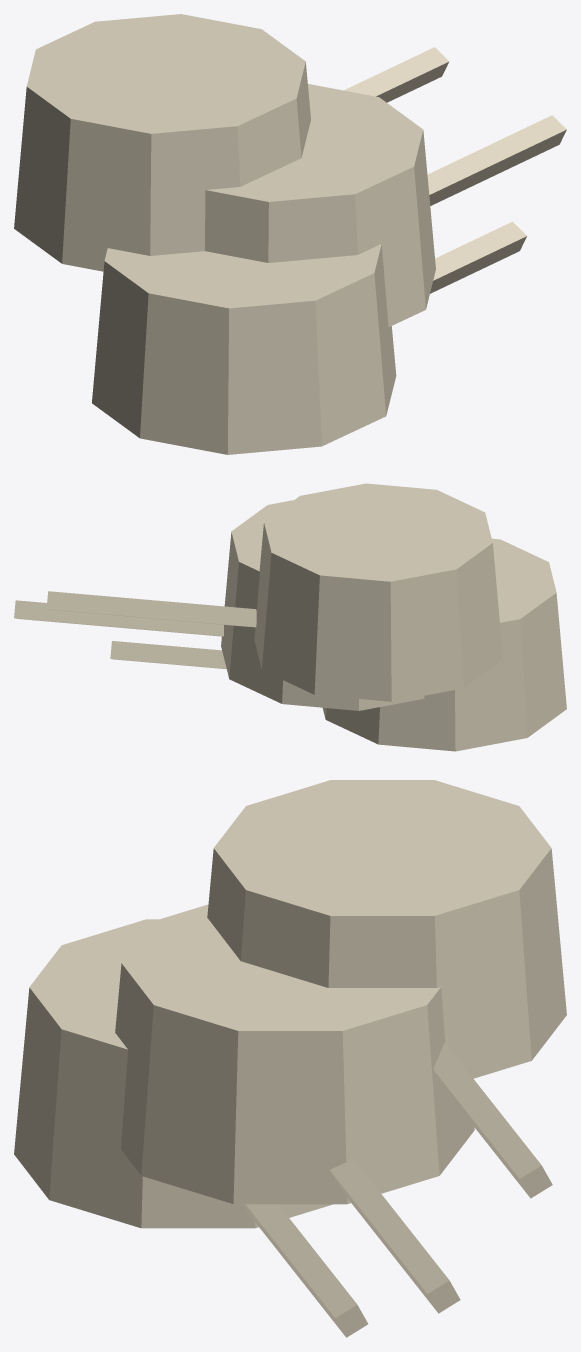
File: item_040_sling_m.glb
3 renders of one model, top to bottom at view 1: azimuth 30°, elevation 25°; view 2: azimuth 150°, elevation 25°; view 3: azimuth 270°, elevation 25°, orthographic. The views are drawn at different scales.
Parts seen in each view (by area): view 1: item_040_sling_m; view 2: item_040_sling_m; view 3: item_040_sling_m.
Part boxes in pixels (x1=…): item_040_sling_m: x1=14, y1=14, x2=566, y2=454; item_040_sling_m: x1=14, y1=483, x2=566, y2=751; item_040_sling_m: x1=14, y1=780, x2=566, y2=1337.
Bounding box in the file's own units: 0.4877 × 0.22 × 0.36.
